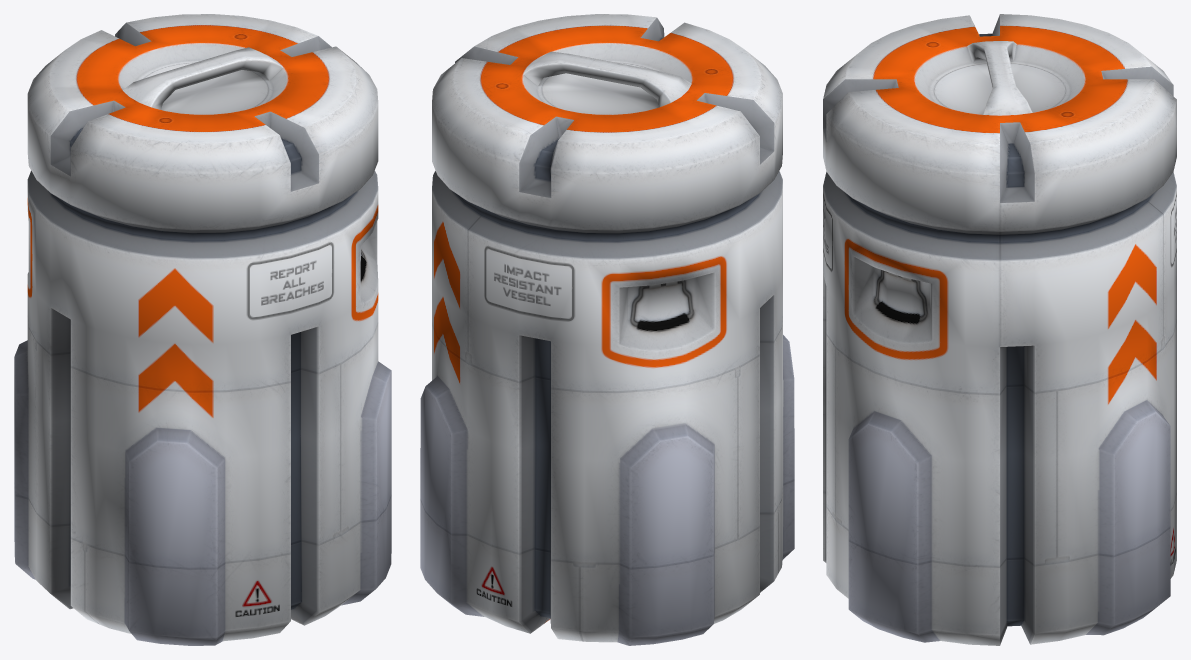
File: Barrel.fbx
3 views of the same model, side by side, from view 1: azimuth 30°, elevation 25°; view 2: azimuth 150°, elevation 25°; view 3: azimuth 270°, elevation 25° (orthographic).
Visible parts, largest first — view 1: Barrel_A; view 2: Barrel_A; view 3: Barrel_A.
Part boxes in pixels (x1=…): Barrel_A: x1=14, y1=14, x2=391, y2=645; Barrel_A: x1=420, y1=14, x2=794, y2=645; Barrel_A: x1=823, y1=14, x2=1176, y2=645.
Bounding box in the file's own units: 64 × 103 × 64.
Materials: 1 (1 with a texture image).
